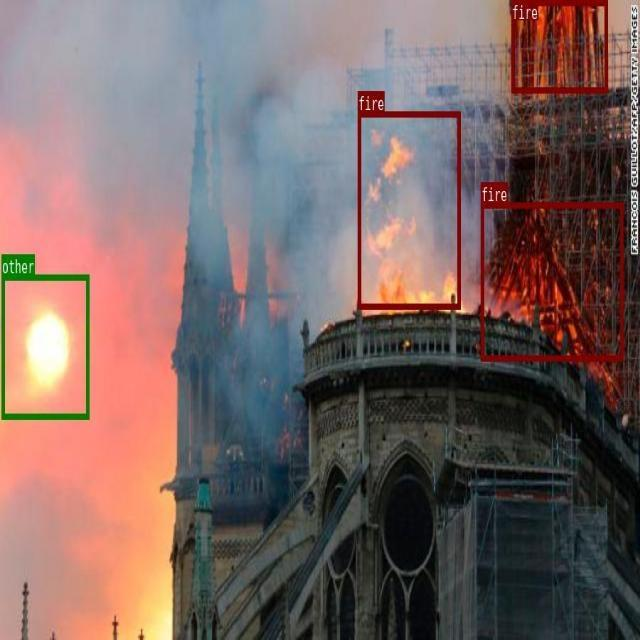fire: (481, 202, 623, 360), (357, 111, 460, 309), (512, 0, 608, 91)
